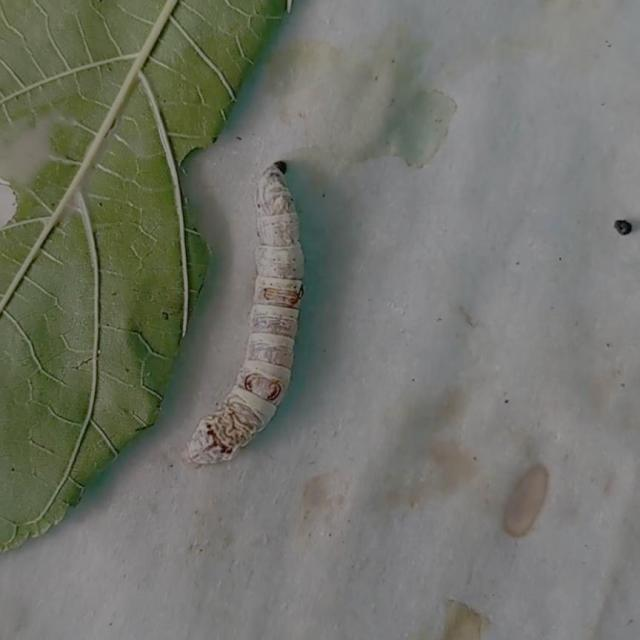Grasserie: (186, 157, 328, 480)
